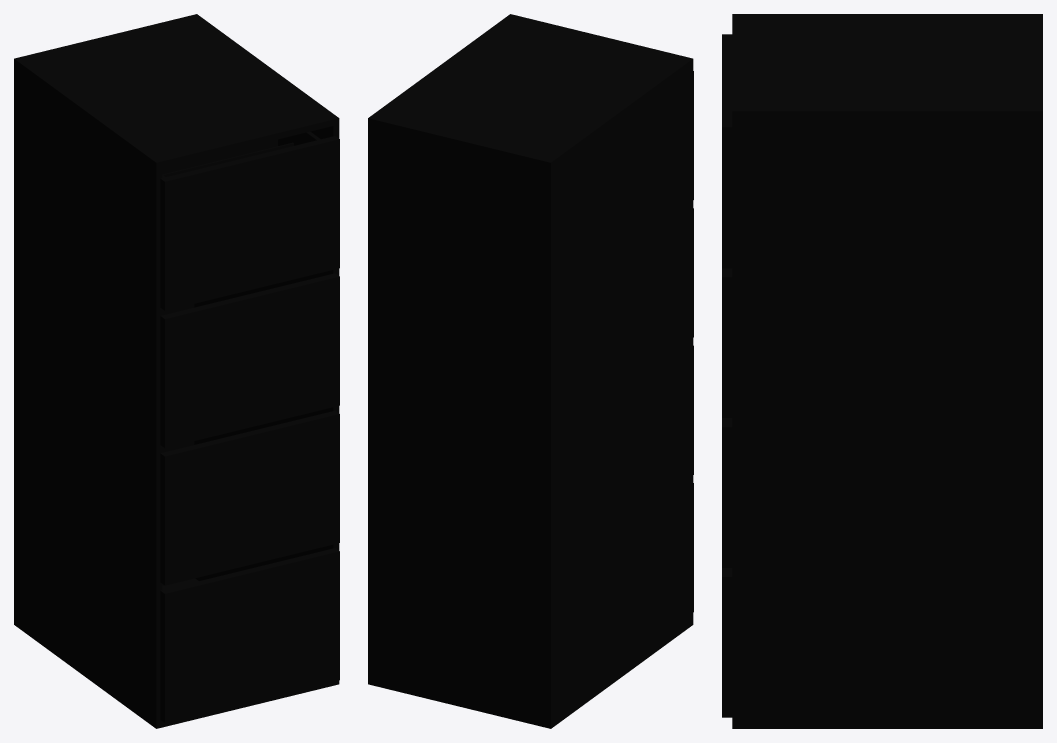
The model's file is SM_filing_cabinet_green.fbx.
3 renders of one model, left to right at view 1: azimuth 30°, elevation 25°; view 2: azimuth 150°, elevation 25°; view 3: azimuth 270°, elevation 25°, orthographic. The views are drawn at different scales.
Parts seen in each view (by area): view 1: filing_cabinet_green, filing_cabinet_green_drawer; view 2: filing_cabinet_green; view 3: filing_cabinet_green, filing_cabinet_green_drawer.
Boxes of the visible parts, x1,y1,x2,y2 form: filing_cabinet_green: [14, 14, 339, 728]; filing_cabinet_green_drawer: [160, 131, 339, 310]; filing_cabinet_green: [368, 14, 693, 728]; filing_cabinet_green: [722, 14, 1042, 728]; filing_cabinet_green_drawer: [722, 34, 732, 268].
Bounding box in the file's own units: 0.46 × 1.36 × 0.64.
